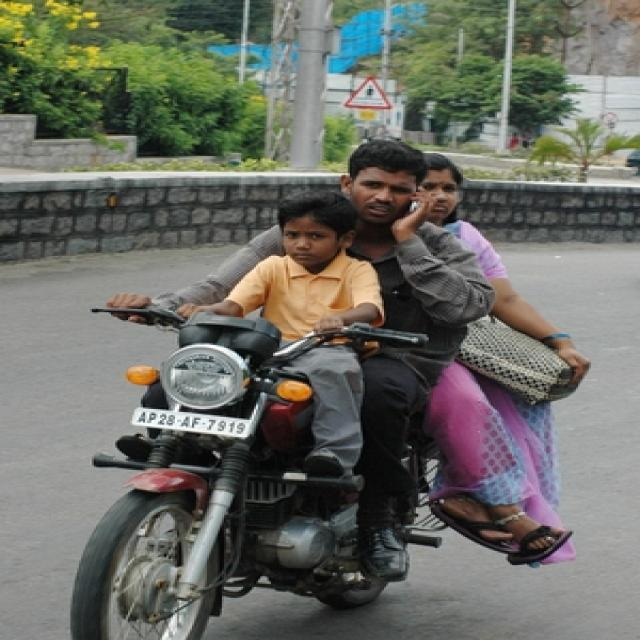USING_MOBILE: (402, 190, 483, 319)
